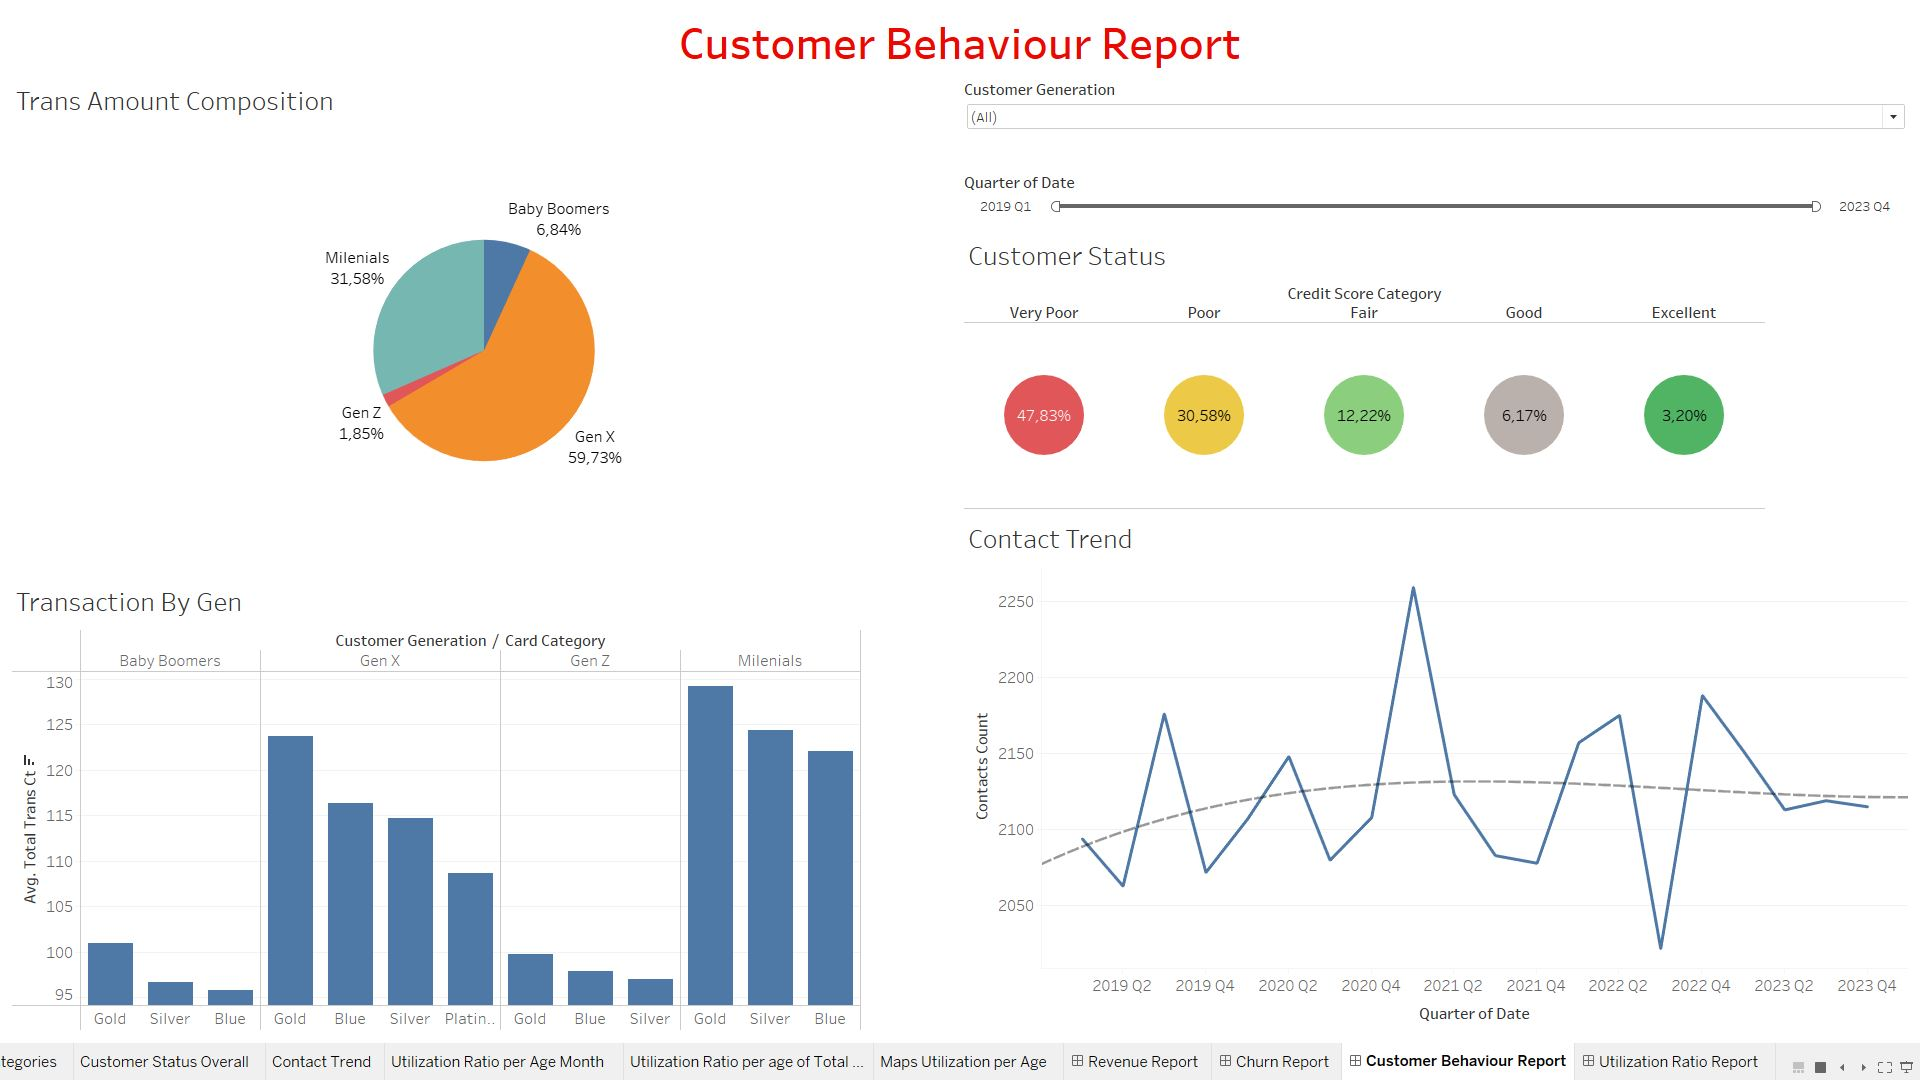

Layout of this report page (visuals, bound fields, positions):
{"tool":"tableau","page":{"name":"Customer Behaviour Report","canvas":[1000,1000],"units":"permille","ordinal":1},"visuals":[{"type":"title","box":[4.8,9.3,990.3,156.8]},{"type":"worksheet","title":"Trans Amount Composition","mark":"Pie","box":[4.8,166.1,433.5,412.3]},{"type":"filter","title":"Trans Amount Composition","param":"[federated.1ccpgh20nh87yk13rwn9y19mnfh2].[Customer Generation]","box":[438.3,166.1,556.8,77.7]},{"type":"worksheet","title":"Customer Status","mark":"Square","cols":["Credit_Score_Category"],"box":[438.3,243.8,556.8,225.3]},{"type":"filter","title":"Contact Trend","param":"[federated.1ccpgh20nh87yk13rwn9y19mnfh2].[tqr:Date:qk]","box":[438.3,469.1,556.8,77.7]},{"type":"worksheet","title":"Contact Trend","mark":"Automatic","rows":["Contacts_Count"],"cols":["Date"],"box":[438.3,546.8,556.8,443.9]},{"type":"filter","title":"Transaction by Gen","param":"[federated.1ccpgh20nh87yk13rwn9y19mnfh2].[none:Card_Category:nk]","box":[4.8,578.4,433.5,77.7]},{"type":"worksheet","title":"Transaction by Gen","mark":"Automatic","rows":["Total_Trans_Ct"],"cols":["Card_Category"],"box":[4.8,656.1,433.5,334.7]}]}

Visuals, with their boxes on the dashboard's canvas, which has no fixed pixel size, in thousandths of its width and height (x1, y1, x2, y2). These are canvas units, not pixel positions in the 1920x1080 screenshot, which may show the page scaled, cropped or inside an application window:
title: box=[5, 9, 995, 166]
"Trans Amount Composition" worksheet (Pie marks): box=[5, 166, 438, 578]
"Trans Amount Composition" filter: box=[438, 166, 995, 244]
"Customer Status" worksheet (Square marks): box=[438, 244, 995, 469]
"Contact Trend" filter: box=[438, 469, 995, 547]
"Contact Trend" worksheet: box=[438, 547, 995, 991]
"Transaction by Gen" filter: box=[5, 578, 438, 656]
"Transaction by Gen" worksheet: box=[5, 656, 438, 991]
